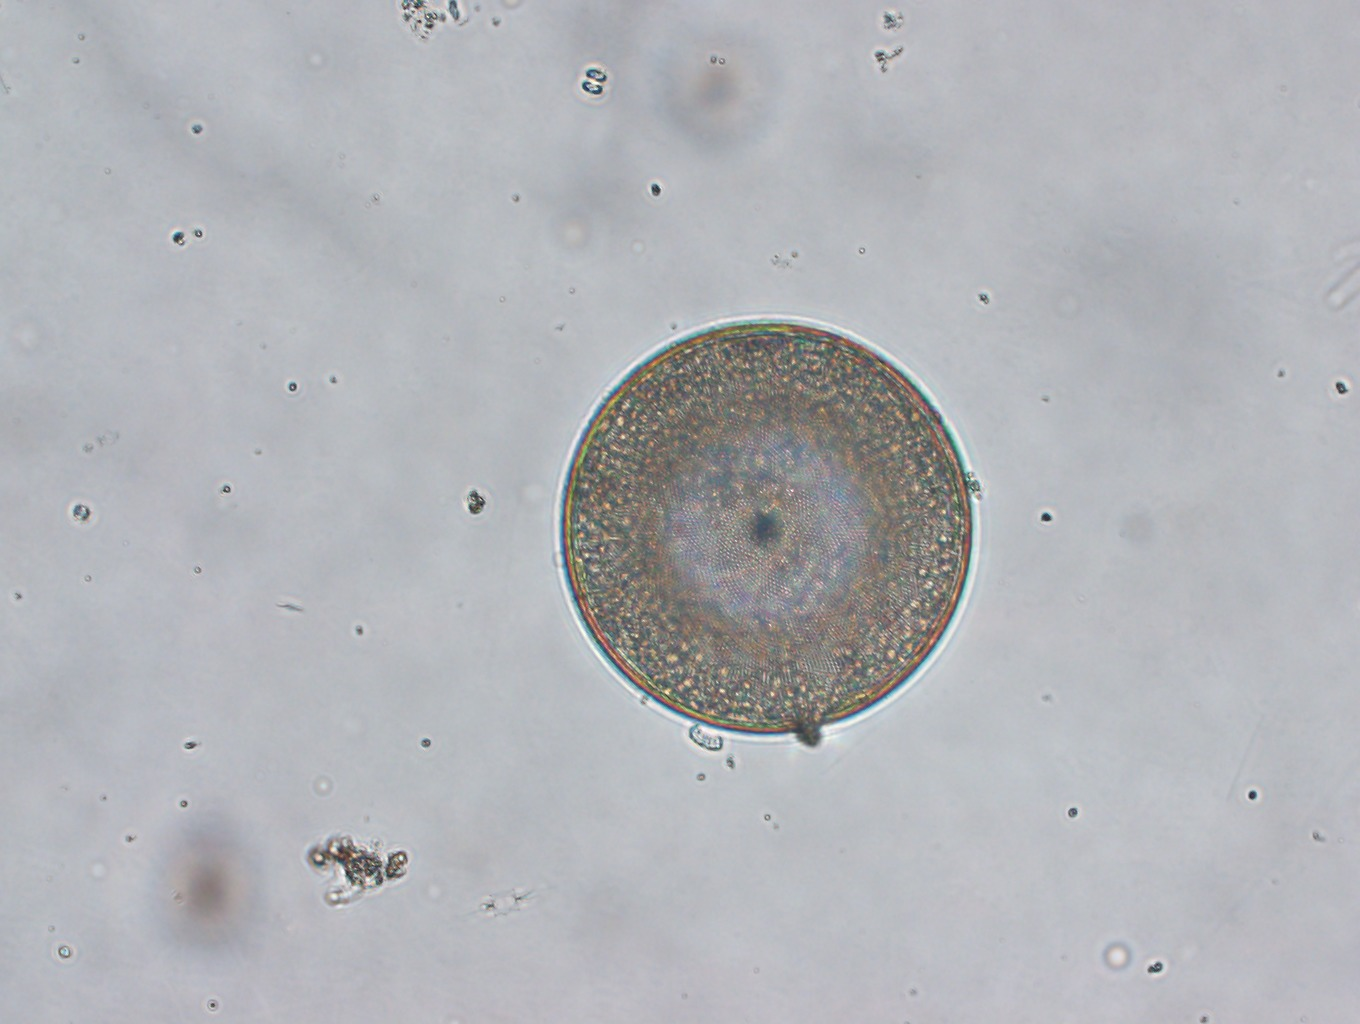coscinodiscus: (556, 313, 980, 738)
